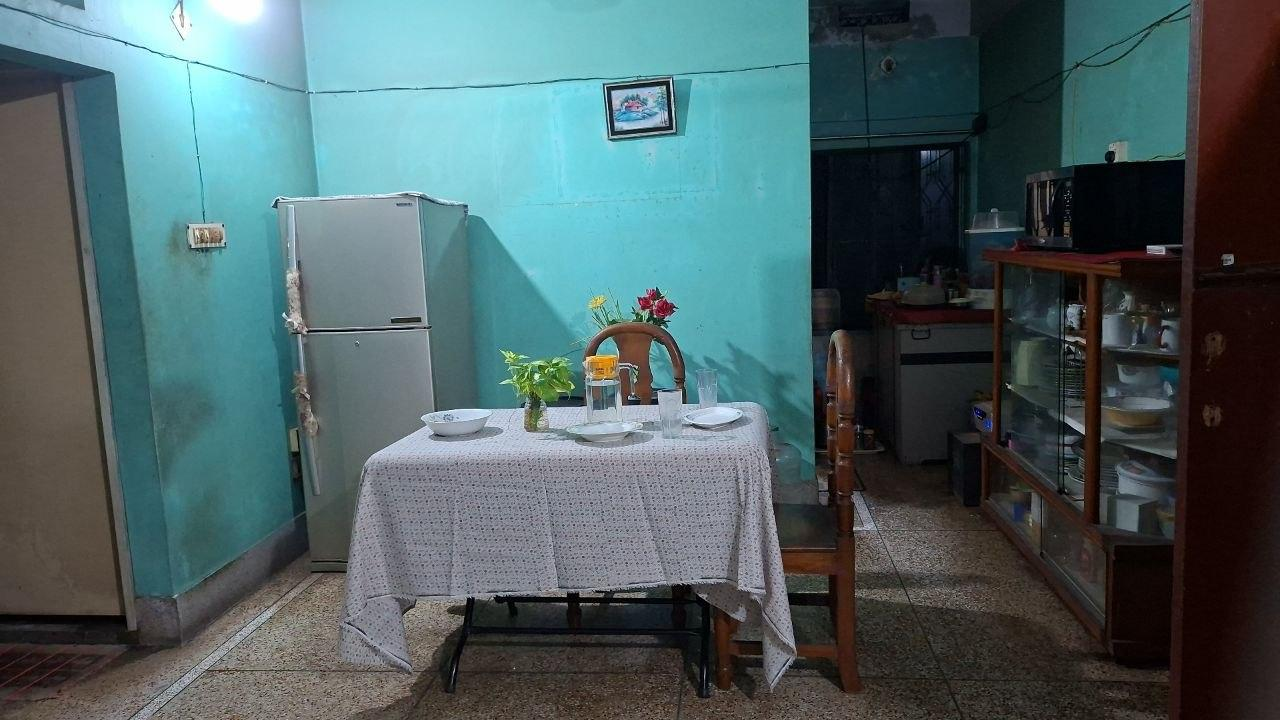Bowl: (404, 390, 501, 442)
Chair: (767, 316, 865, 704)
Door: (0, 57, 132, 637)
Jug: (570, 337, 635, 450)
Light: (197, 0, 285, 48)
Photo: (603, 80, 681, 134)
Plant: (509, 348, 561, 440)
Plate: (664, 400, 767, 438)
Table: (362, 385, 798, 720)
